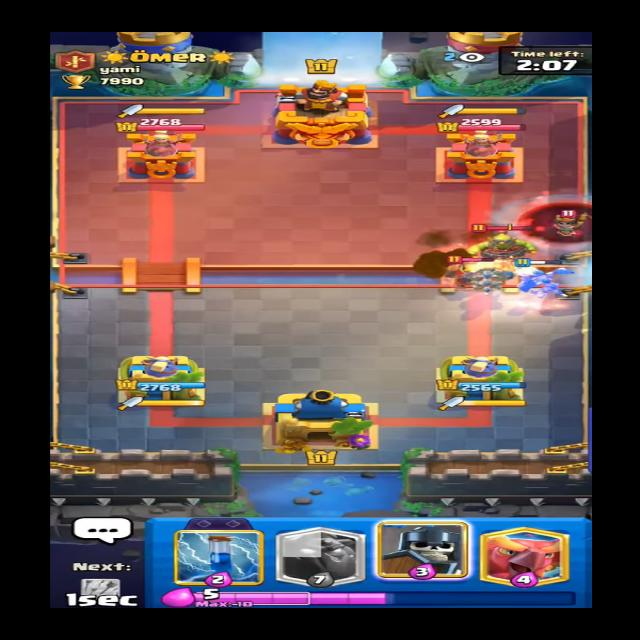Goblindemolisher: (465, 221, 537, 264)
Knight: (438, 251, 511, 291)
Littleprince: (547, 205, 585, 244)
